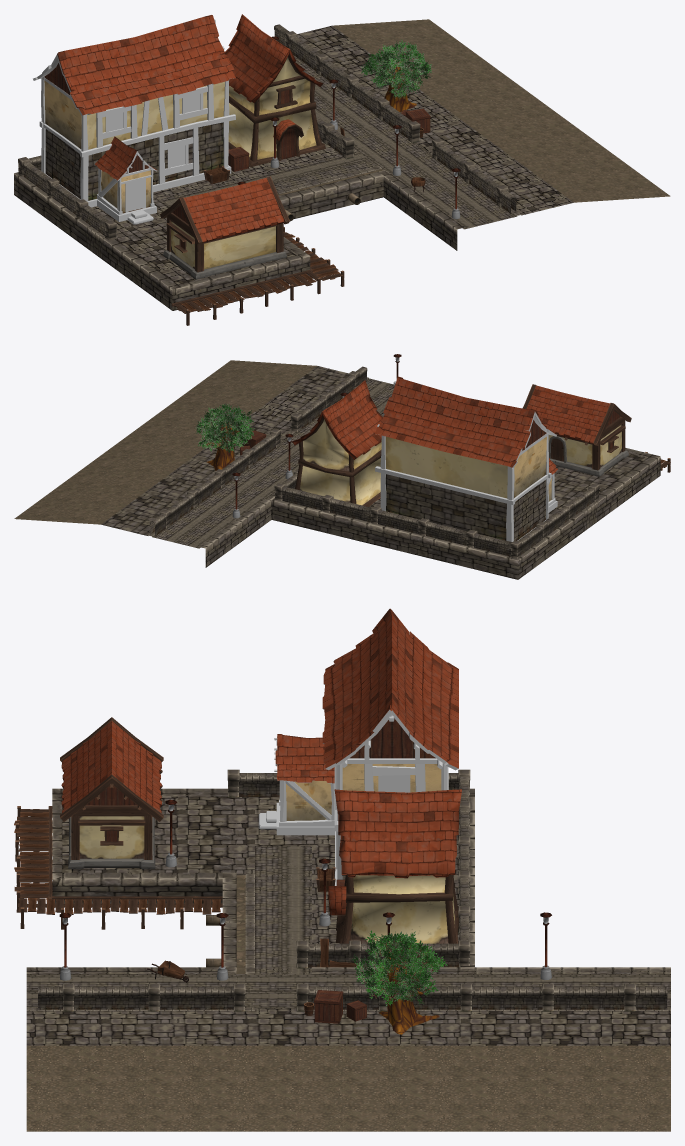
Rendered from dockNew1.fbx.
3 renders of one model, top to bottom at view 1: azimuth 30°, elevation 25°; view 2: azimuth 150°, elevation 25°; view 3: azimuth 270°, elevation 25°, orthographic. The views are drawn at different scales.
Parts seen in each view (by area): view 1: Cube.008, Cube.004, Cube.001, drawBox.005, Cylinder.001, Plane.029; view 2: Cube.008, Cube.004, Cube.001, drawBox.005, Plane.029, Cylinder.001; view 3: Cube.004, Cube.008, Cube.001, drawBox.005, Cylinder.001, Plane.029.
Part boxes in pixels (box(x1,y1,x2,y2)): Cube.008: box(33, 14, 325, 279); Cube.004: box(293, 19, 670, 250); Cube.001: box(14, 140, 383, 310); drawBox.005: box(18, 24, 516, 240); Cylinder.001: box(171, 36, 460, 325); Plane.029: box(361, 39, 431, 98); Cube.008: box(292, 376, 631, 541); Cube.004: box(14, 360, 394, 567); Cube.001: box(271, 448, 660, 579); drawBox.005: box(149, 366, 599, 558); Plane.029: box(196, 403, 254, 453); Cylinder.001: box(206, 354, 670, 518); Cube.004: box(26, 967, 670, 1131); Cube.008: box(60, 608, 461, 943); Cube.001: box(52, 788, 474, 969); drawBox.005: box(38, 769, 667, 1011); Cylinder.001: box(14, 799, 551, 1034); Plane.029: box(351, 930, 447, 1006).
Size of the model in its own units: 3191 by 1050 by 2783.
